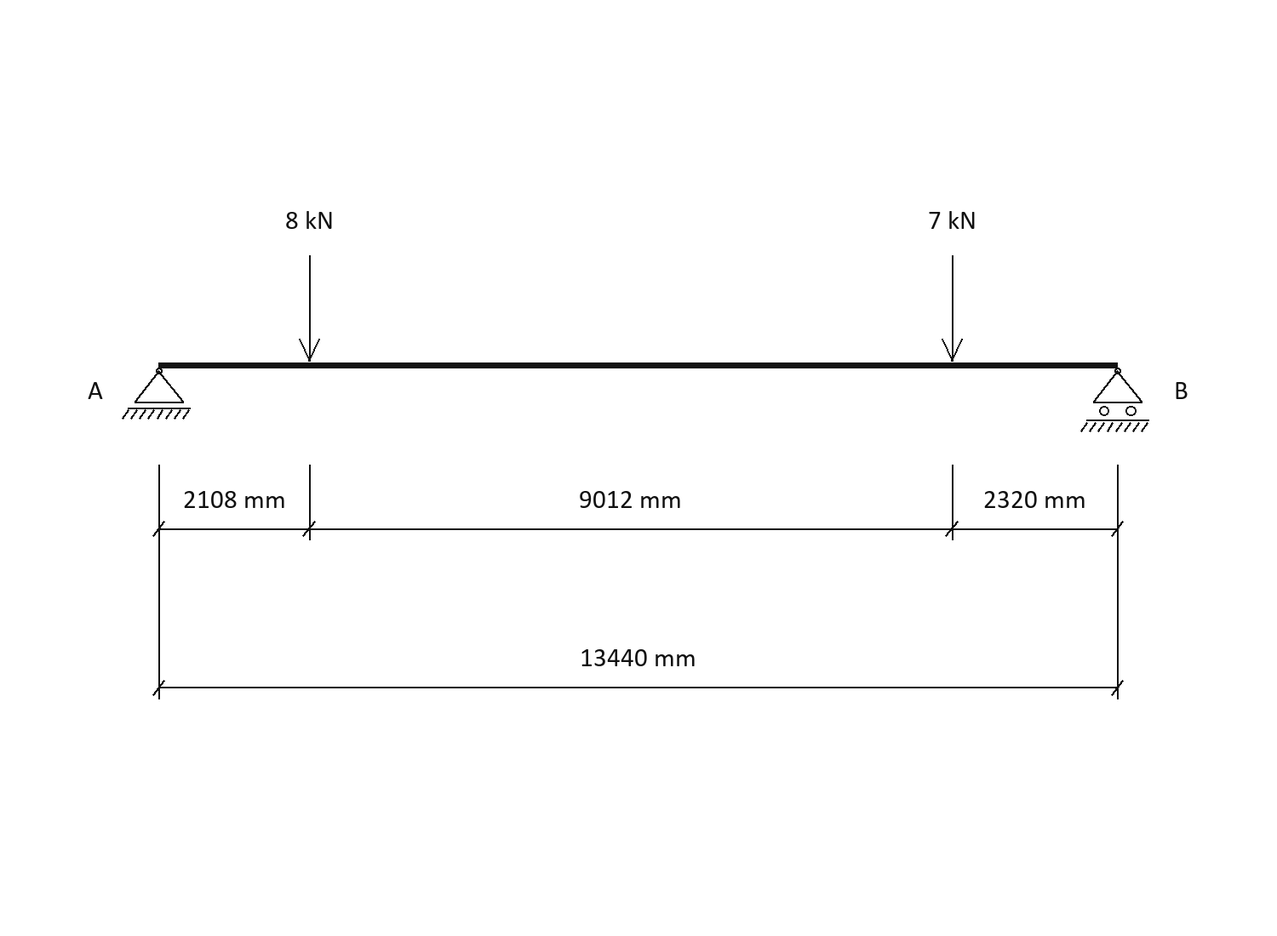pin_support: (122, 368, 191, 419)
point_load: (299, 255, 320, 362), (942, 255, 963, 362)
roller_support: (1080, 368, 1149, 432)
